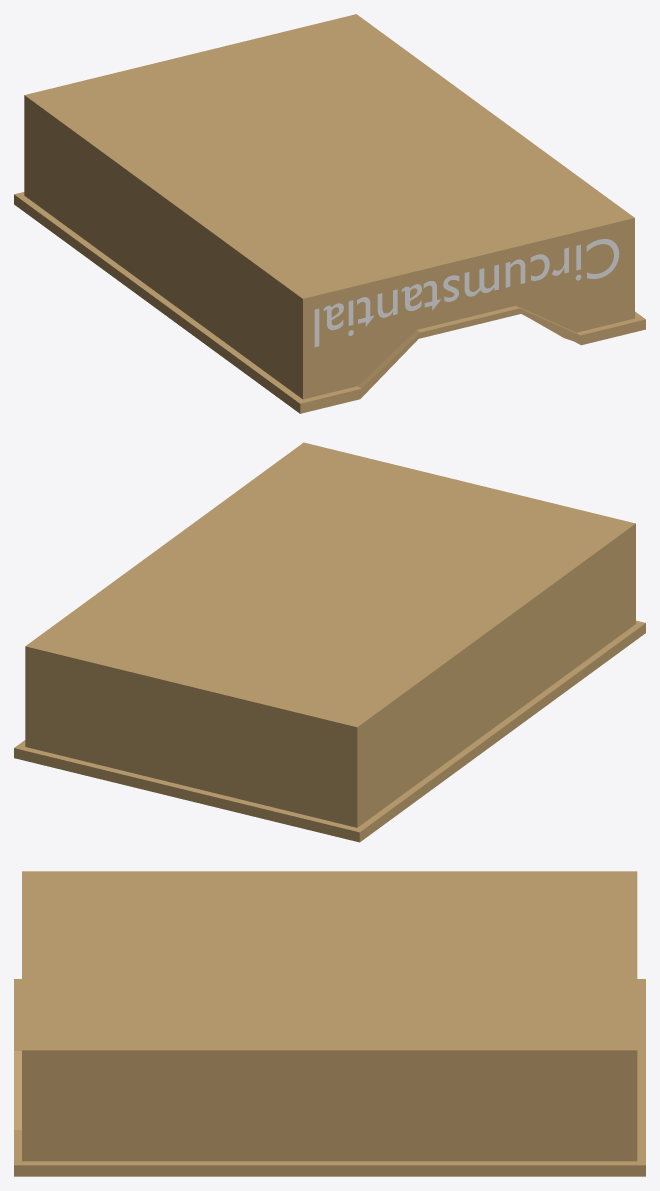
Rendered from Folder_circumstantial.fbx.
3 renders of one model, top to bottom at view 1: azimuth 30°, elevation 25°; view 2: azimuth 150°, elevation 25°; view 3: azimuth 270°, elevation 25°, orthographic. The views are drawn at different scales.
Visible parts, largest first — view 1: Cube, Text; view 2: Cube; view 3: Cube.
Boxes of the visible parts, <box> form: Cube: <box>14,14,645,413</box>; Text: <box>314,239,619,346</box>; Cube: <box>14,442,645,842</box>; Cube: <box>14,871,645,1176</box>.
Bounding box in the file's own units: 654 × 200 × 937.
